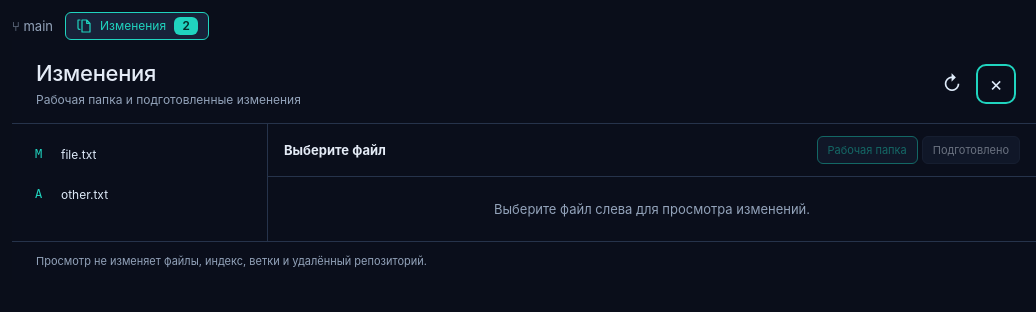
Test case: shows branch and changes without a Git main tab, file list and staged/working diff
expect the text "main" is shown: met, box [24, 18, 53, 34]
Click the button "M file.txt": (140, 154) [24, 136, 255, 173]
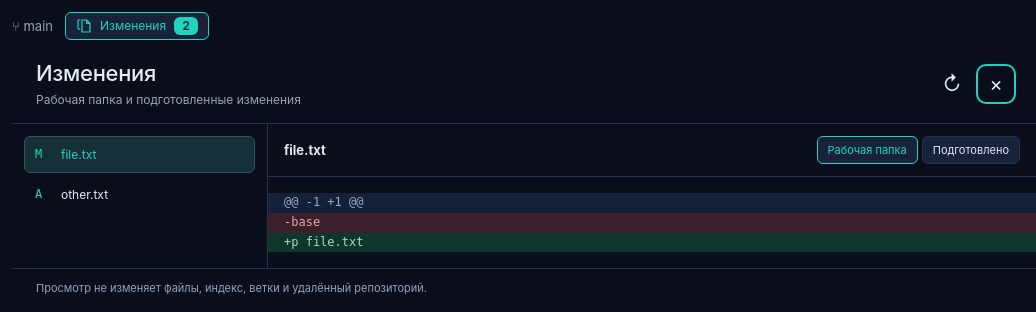
expect the button "Рабочая папка" is shown: met, box [816, 136, 918, 164]
expect the text "+p file.txt" is shown: met, box [268, 233, 1035, 252]
